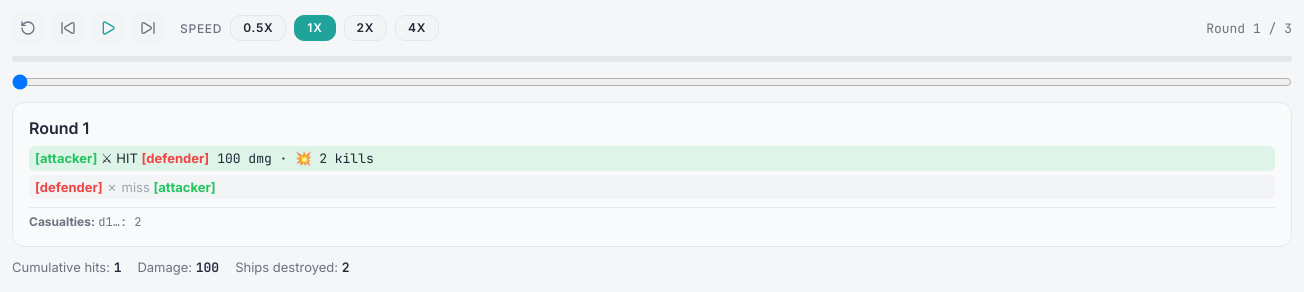
BattlePlayback › cumulative stats reflect attacks up to the current round
The image size is (1304, 292).
Click the button named "step forward" at (148, 28), box [132,12,164,44]
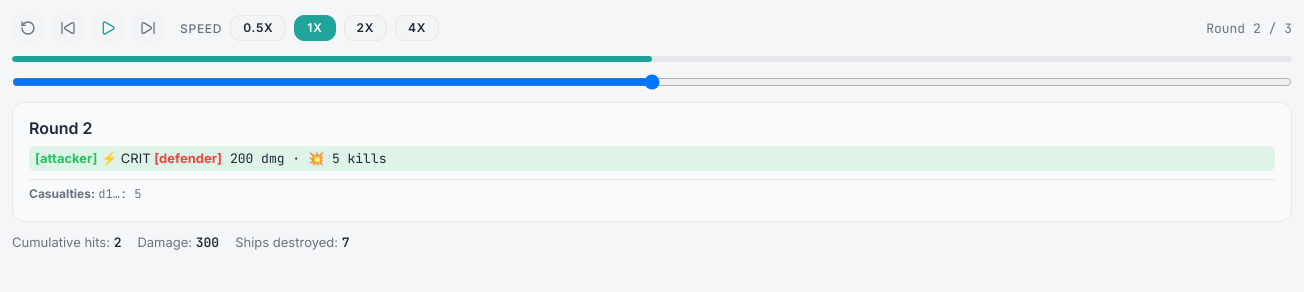
Expected: the text "2" is shown, [344,15,387,41]
Now the text "300" is shown, box [196,234,219,251]
Now the text "7" is shown, box [342,234,350,251]
